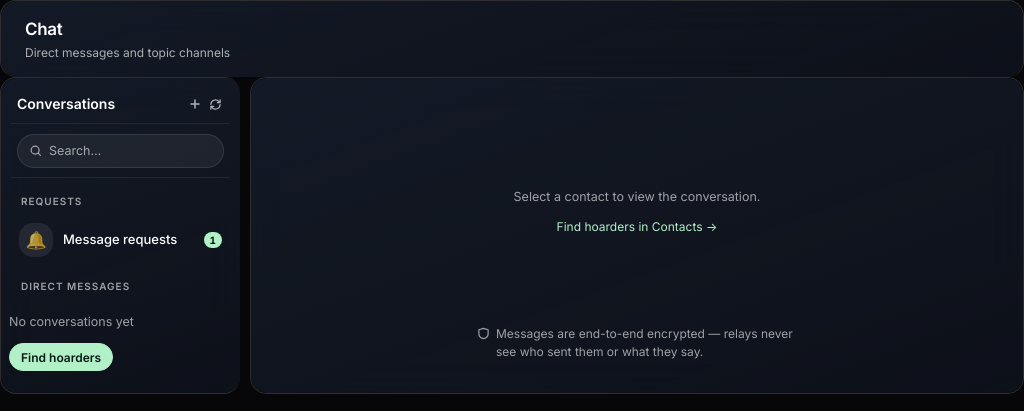
Scenario: QURATOR-146 — a slow non-contact resolve must not override in-flight navigation › a resolve landing AFTER the user opens the Requests pane does not yank the view back
What coordinates should you click on to do the following:
click the text "Message requests"
I would click on:
 (120, 239)
Its box is [63, 231, 177, 247].
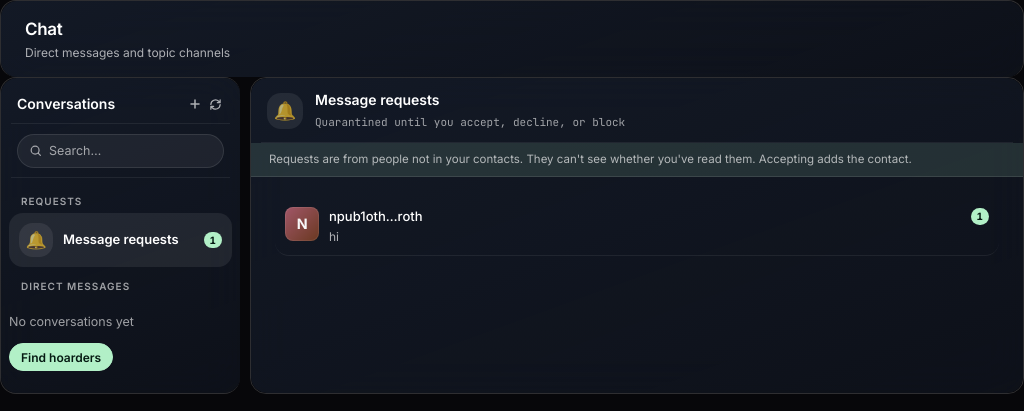
Expected: the text "Quarantined until you accept, decline, or block" is shown, [315, 115, 625, 129]
